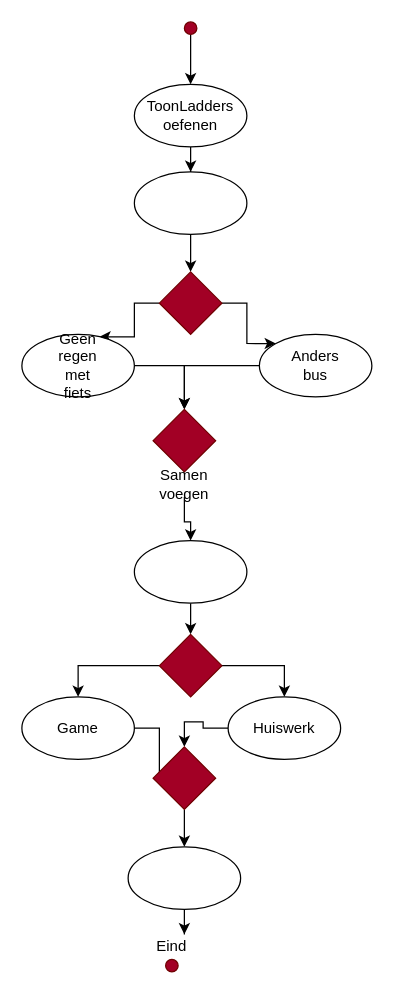
Image size: 394x994. Some labels were removed from this diagram. Here are the shapes that lost their labels. From the top down, the box of each, then its label:
(133, 171, 247, 234): oefenboeken pakken
(133, 539, 247, 603): Naar huis
(127, 846, 241, 909): Slapen
